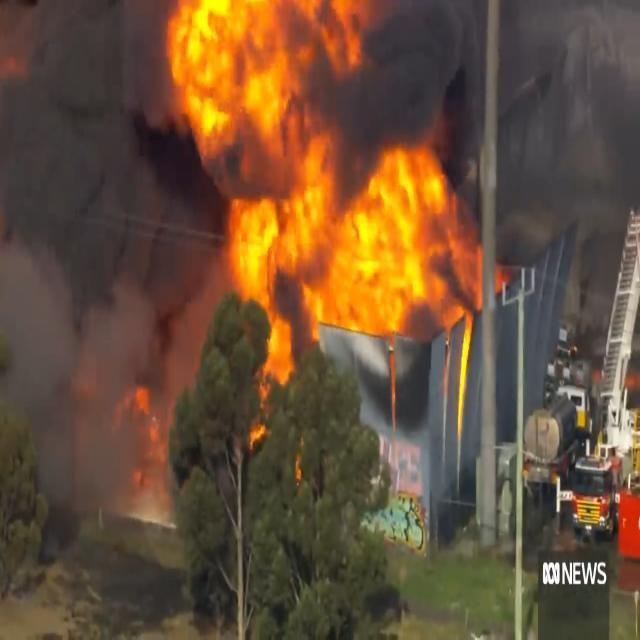fire: (166, 2, 455, 414)
